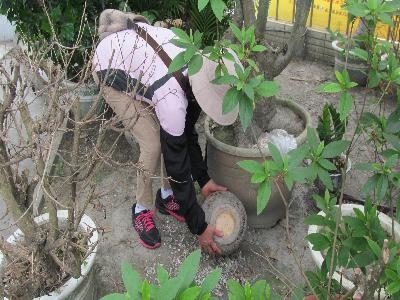bowl: (192, 186, 253, 259)
